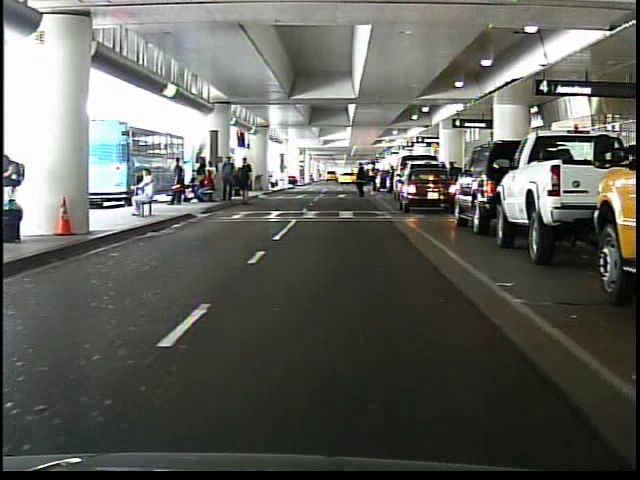person: (122, 167, 160, 222), (166, 156, 186, 209), (353, 160, 372, 204), (366, 160, 382, 197)
